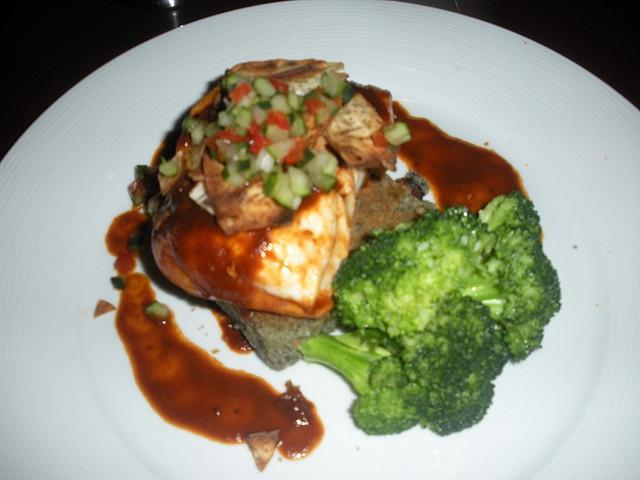broccoli: (331, 204, 498, 338), (459, 190, 562, 363), (394, 330, 513, 438), (296, 332, 418, 436)
